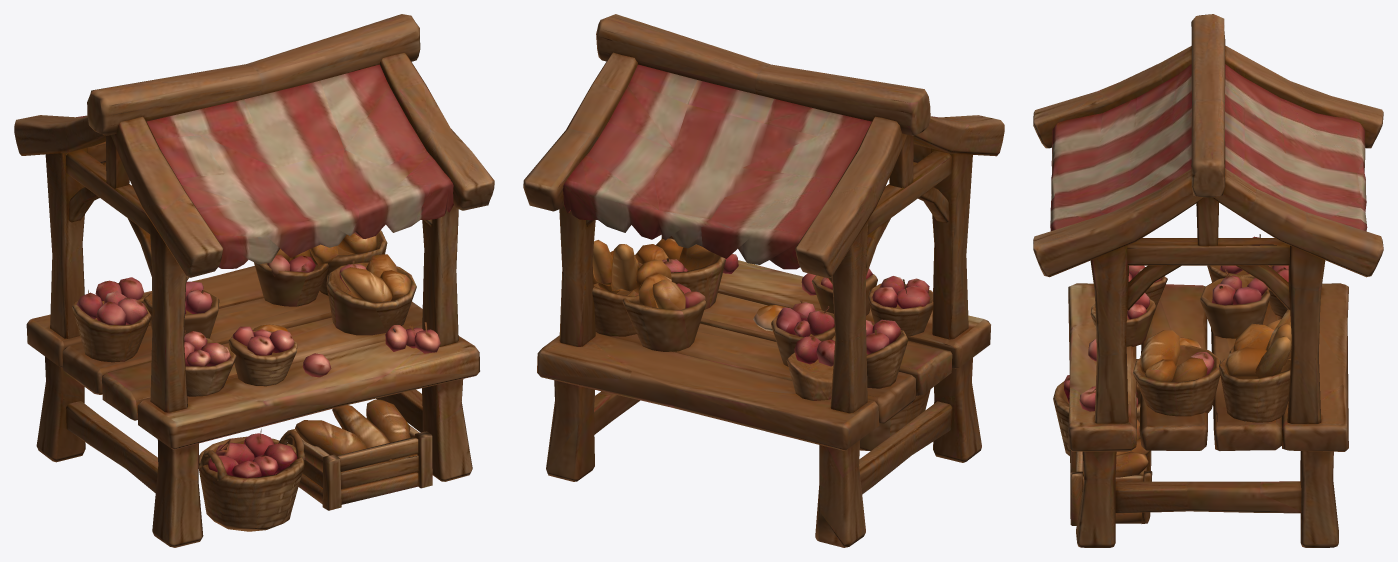
Rendered from market_stall.glb.
3 renders of one model, left to right at view 1: azimuth 30°, elevation 25°; view 2: azimuth 150°, elevation 25°; view 3: azimuth 270°, elevation 25°, orthographic. The views are drawn at different scales.
Parts seen in each view (by area): view 1: geometry_0; view 2: geometry_0; view 3: geometry_0.
Boxes of the visible parts, x1,y1,x2,y2 form: geometry_0: (14,14,494,547); geometry_0: (523,14,1004,547); geometry_0: (1033,14,1383,547).
Size of the model in its own units: 0.7812 by 0.9521 by 0.7744.
Materials: 1 (1 with a texture image).
